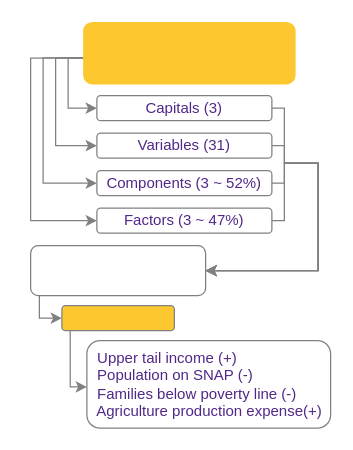
This 353x450 diagram has some shape labels left out. The box of each missing label's shape, as (x1, y1, x2, y2) in pixels:
Community resilience linear combinations of:: (82, 21, 295, 84)
Reduced:: (61, 304, 174, 331)
Regression Analysis (Random Forest): (29, 244, 206, 296)
